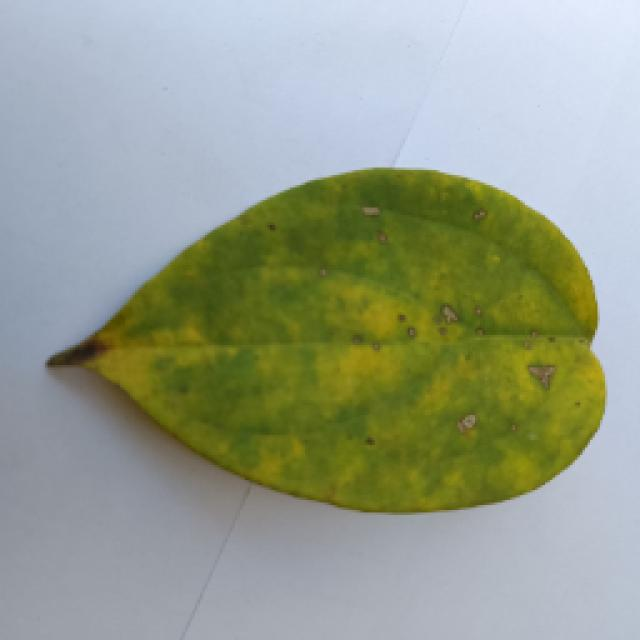slow-decline: (35, 158, 605, 520)
